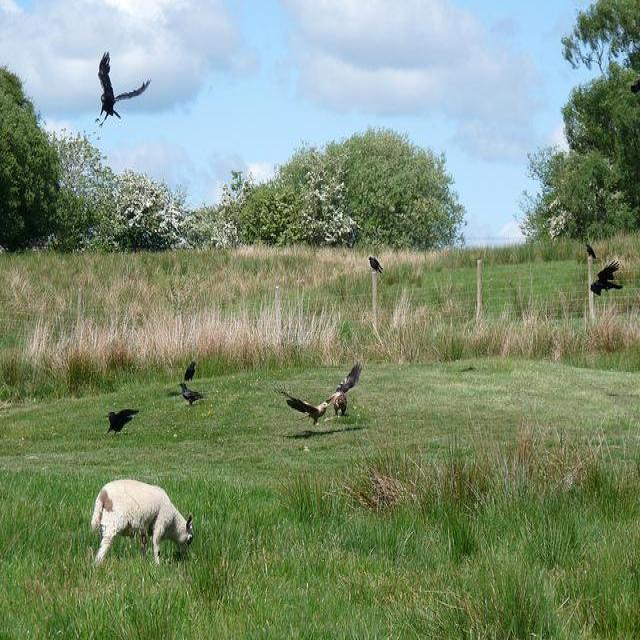Sheep: (90, 480, 194, 567)
